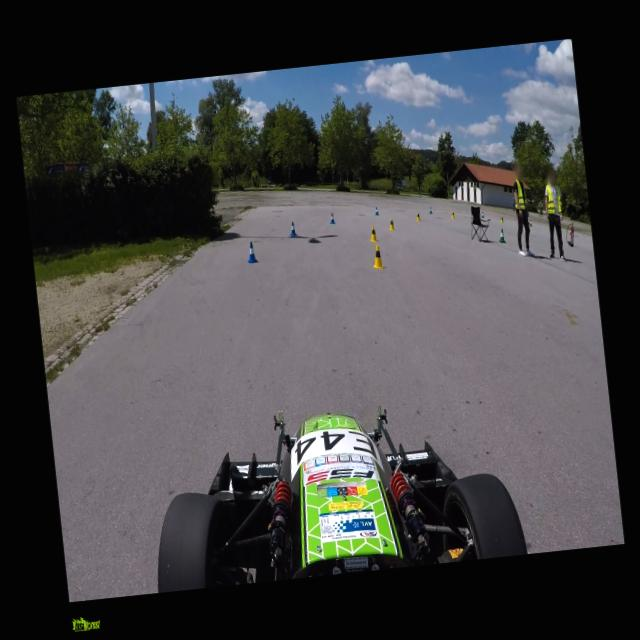blue_cone: (245, 242, 258, 263), (288, 220, 297, 237), (329, 212, 335, 224), (374, 206, 378, 215), (428, 206, 432, 214), (481, 211, 484, 218), (529, 219, 532, 226)
unknown_cone: (497, 228, 505, 242)
yellow_cone: (370, 243, 384, 270), (368, 224, 378, 243), (388, 217, 395, 231), (415, 211, 420, 221), (450, 210, 454, 219), (499, 215, 504, 222), (527, 218, 530, 226)
